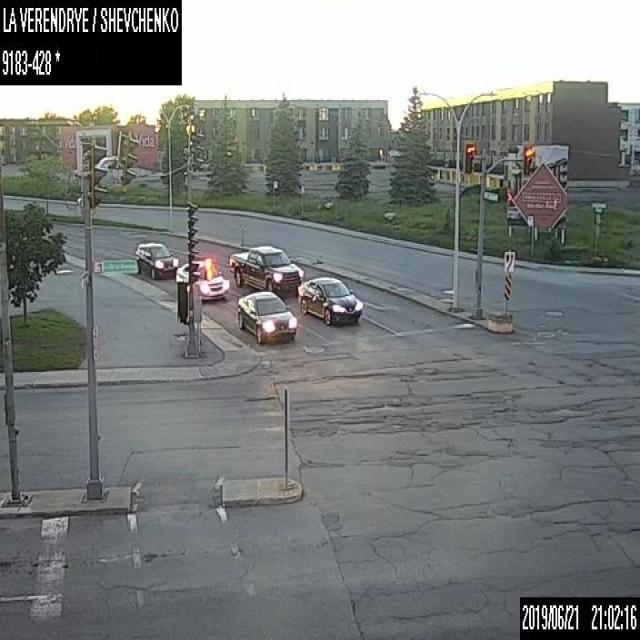vehicle: (229, 242, 303, 296), (236, 290, 296, 344), (298, 274, 362, 324), (175, 259, 227, 301), (134, 240, 178, 279)
